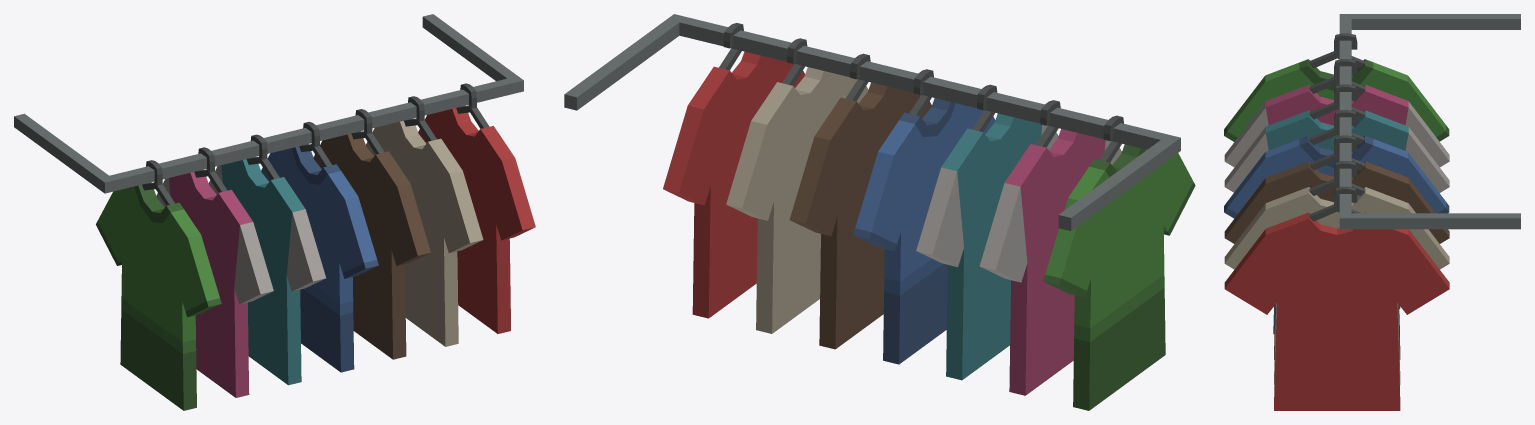
The model's file is SM_Props_Interior_Shop_Clothes_Hanger_Shirt_01.fbx.
3 views of the same model, side by side, from view 1: azimuth 30°, elevation 25°; view 2: azimuth 150°, elevation 25°; view 3: azimuth 270°, elevation 25° (orthographic). The views are drawn at different scales.
Visible parts, largest first — view 1: SM_Props_Interior_Shop_Clothes_Hanger_Shirt_01; view 2: SM_Props_Interior_Shop_Clothes_Hanger_Shirt_01; view 3: SM_Props_Interior_Shop_Clothes_Hanger_Shirt_01.
Part boxes in pixels (left/top/right/bottom): SM_Props_Interior_Shop_Clothes_Hanger_Shirt_01: left=14, top=14, right=535, bottom=410; SM_Props_Interior_Shop_Clothes_Hanger_Shirt_01: left=564, top=14, right=1195, bottom=410; SM_Props_Interior_Shop_Clothes_Hanger_Shirt_01: left=1224, top=14, right=1520, bottom=410.
Bounding box in the file's own units: 160 × 80.33 × 98.28.
